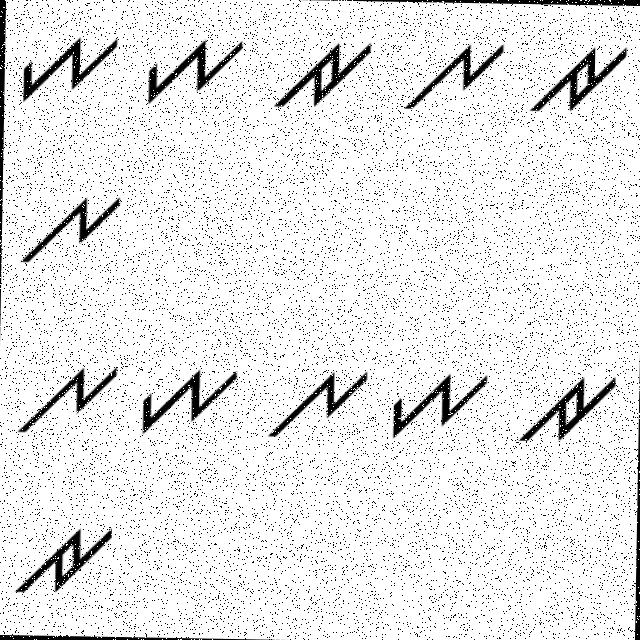la: (250, 358, 372, 448), (392, 34, 514, 120), (10, 184, 124, 270), (11, 354, 119, 442)
ra: (270, 23, 384, 120), (511, 362, 619, 457), (8, 521, 118, 608), (526, 37, 632, 122)
ya: (133, 16, 246, 116), (133, 351, 244, 444), (13, 19, 123, 110), (386, 364, 492, 450)
